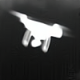plane: (8, 9, 73, 54)
